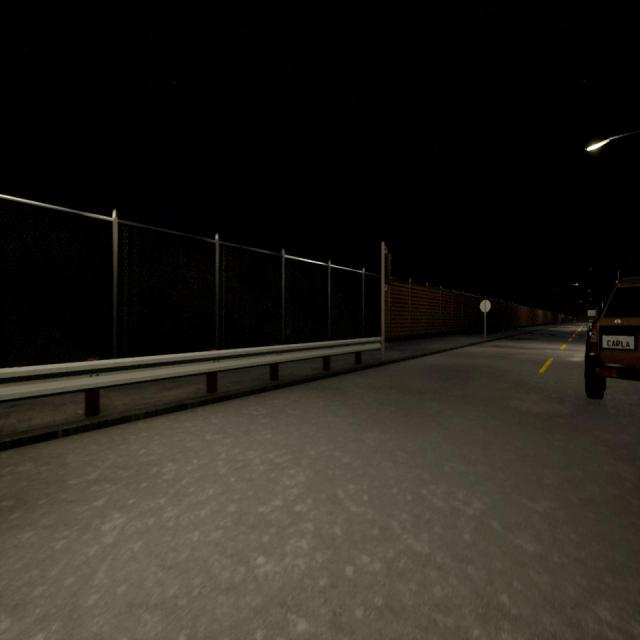Traffic_Signs: (479, 299, 492, 313)
Vehicle: (584, 277, 640, 399)
traffic_light: (384, 252, 394, 286)
